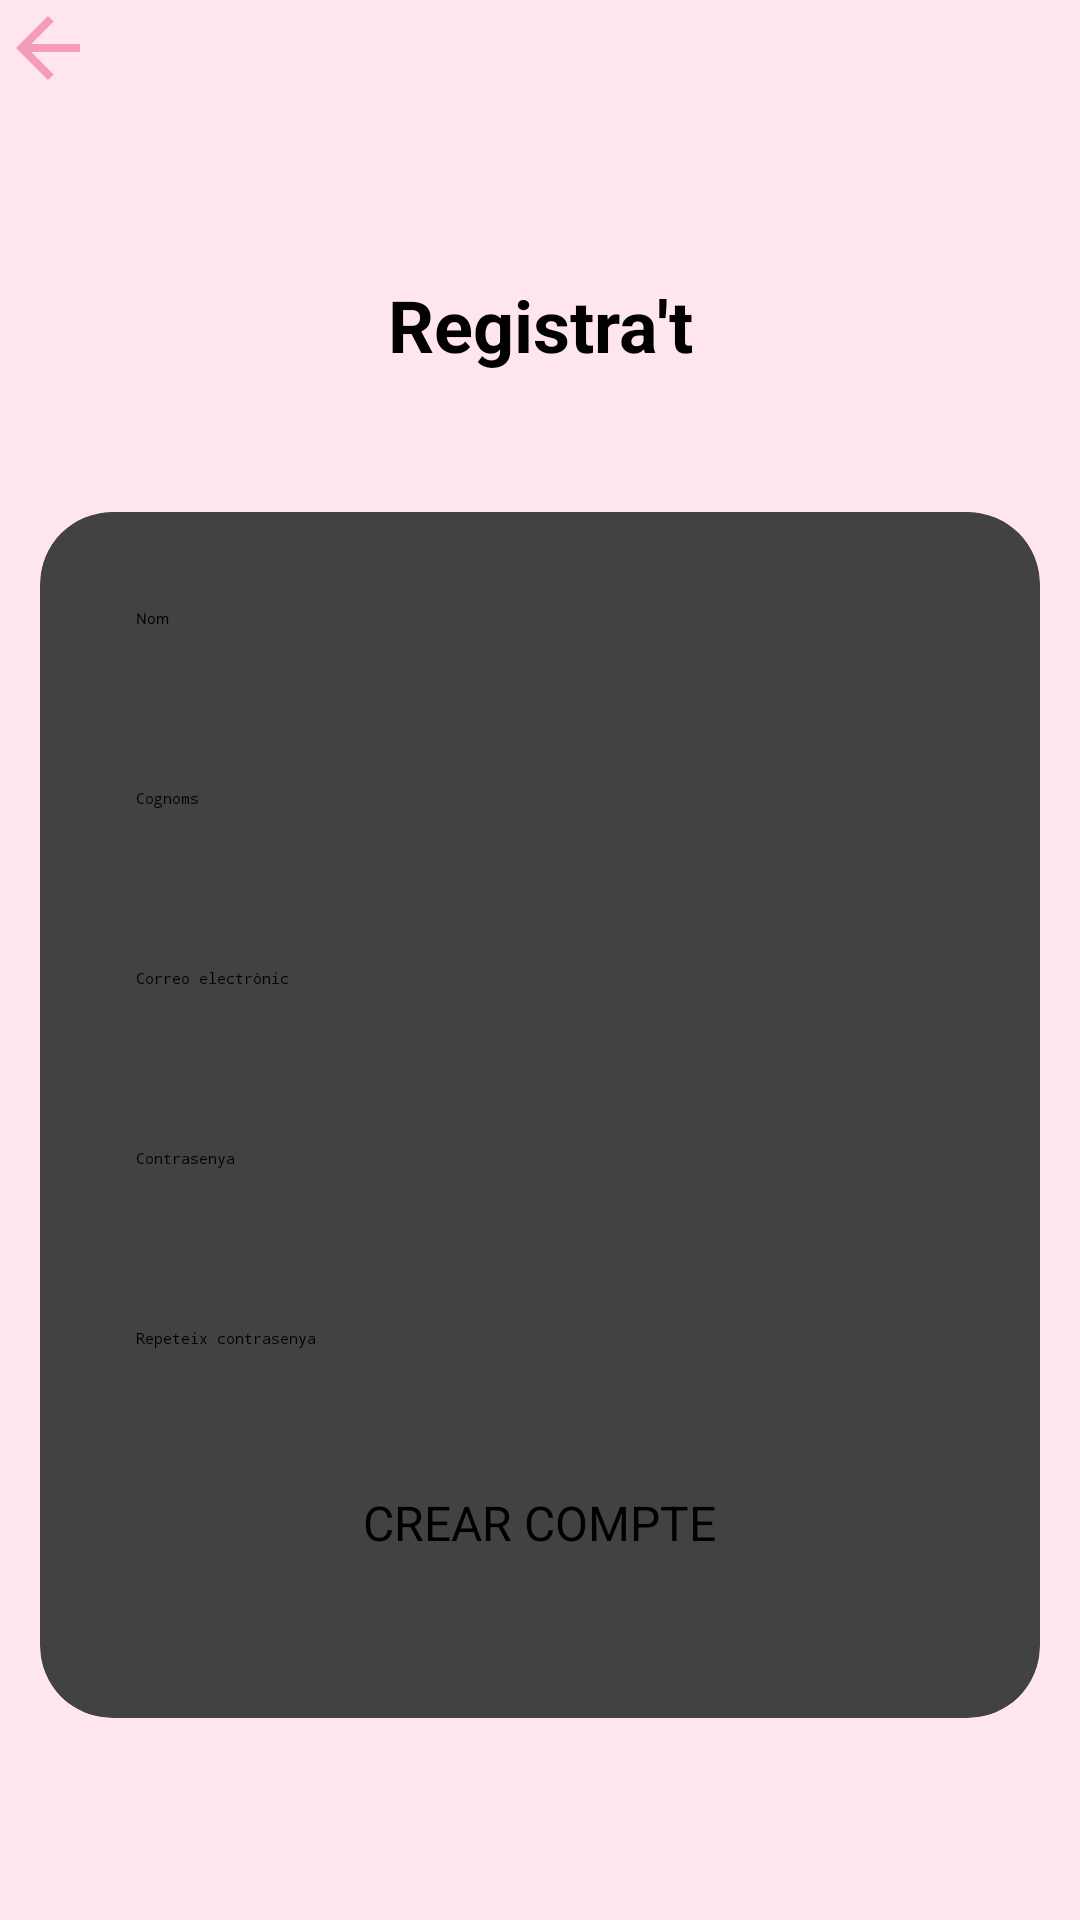

Point at icon controls on the screen. Image size 1080 x 1920, points as point (x, y).
draw volver: point (48, 48)
